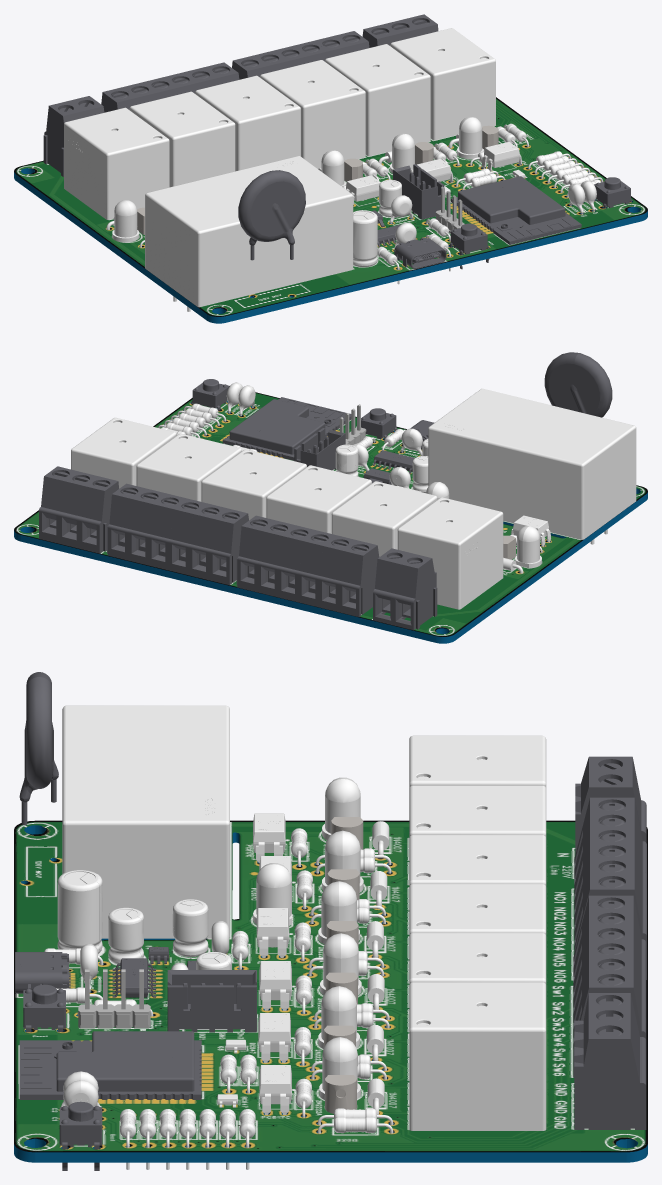
The picture shows the model from 3 angles, top to bottom: view 1: azimuth 30°, elevation 25°; view 2: azimuth 150°, elevation 25°; view 3: azimuth 270°, elevation 25°; orthographic projection. The views are drawn at different scales.
Visible parts, largest first — view 1: U11-mesh, Board-mesh, RLY1-mesh, RLY6-mesh, RLY5-mesh, RLY4-mesh, RLY2-mesh, RLY3-mesh, U9-mesh, R33-mesh, P1-mesh, CN3-mesh (+17 smaller); view 2: U11-mesh, Board-mesh, CN1-mesh (×6), CN4-mesh (×6), RLY1-mesh, CN2-mesh, P1-mesh, RLY2-mesh, U9-mesh, RLY3-mesh, RLY4-mesh, RLY6-mesh (+12 smaller); view 3: Board-mesh, U11-mesh, RLY6-mesh, U9-mesh, CN2-mesh, CN4-mesh (×6), CN1-mesh (×6), RLY1-mesh, RLY2-mesh, RLY5-mesh, RLY4-mesh, RLY3-mesh (+26 smaller).
Part boxes in pixels (x1,y1,x2,y2): U11-mesh: [145, 156, 353, 311]; Board-mesh: [14, 97, 647, 323]; RLY1-mesh: [64, 107, 169, 219]; RLY6-mesh: [390, 28, 495, 140]; RLY5-mesh: [325, 44, 430, 156]; RLY4-mesh: [260, 60, 365, 168]; RLY2-mesh: [129, 91, 235, 187]; RLY3-mesh: [195, 75, 300, 171]; U9-mesh: [451, 176, 581, 244]; R33-mesh: [238, 170, 305, 260]; P1-mesh: [43, 96, 104, 176]; CN3-mesh: [393, 164, 444, 219]; U11-mesh: [428, 388, 636, 544]; Board-mesh: [14, 385, 647, 643]; CN1-mesh (×6): [236, 515, 379, 616]; CN4-mesh (×6): [107, 483, 248, 585]; RLY1-mesh: [397, 497, 503, 609]; CN2-mesh: [39, 466, 118, 553]; P1-mesh: [373, 548, 437, 630]; RLY2-mesh: [331, 481, 437, 556]; U9-mesh: [222, 397, 351, 460]; RLY3-mesh: [266, 465, 371, 533]; RLY4-mesh: [201, 449, 306, 520]; RLY6-mesh: [71, 417, 176, 488]; Board-mesh: [14, 820, 647, 1162]; U11-mesh: [62, 705, 229, 938]; RLY6-mesh: [409, 982, 546, 1130]; U9-mesh: [19, 1031, 201, 1099]; CN2-mesh: [574, 993, 646, 1129]; CN4-mesh (×6): [573, 895, 646, 1077]; CN1-mesh (×6): [574, 797, 646, 979]; RLY1-mesh: [409, 735, 546, 788]; RLY2-mesh: [409, 785, 546, 837]; RLY5-mesh: [409, 933, 546, 984]; RLY4-mesh: [409, 884, 546, 935]; RLY3-mesh: [409, 835, 546, 886].
Bounding box in the file's own units: 0.11 × 0.035 × 0.0889.
Materials: 7 (2 with a texture image).
